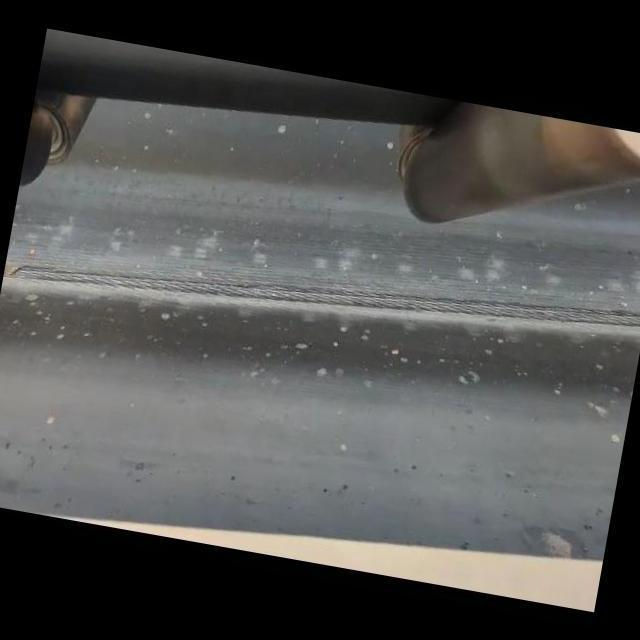Wear: (8, 250, 640, 344)
